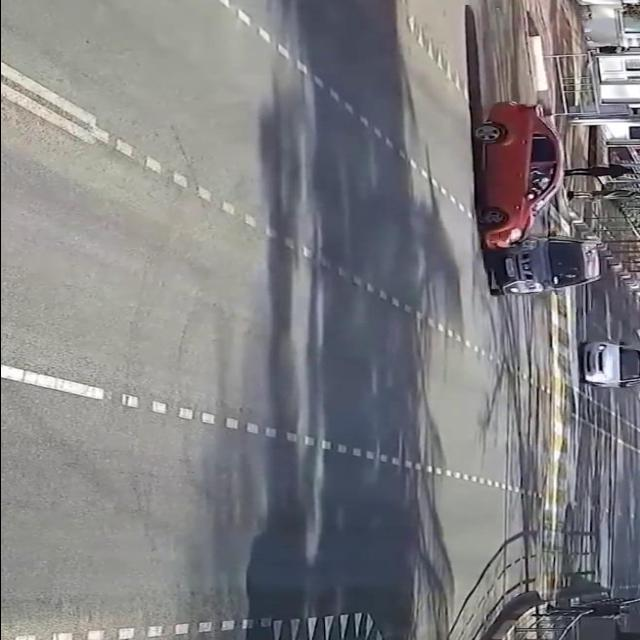accident: (461, 91, 615, 303)
